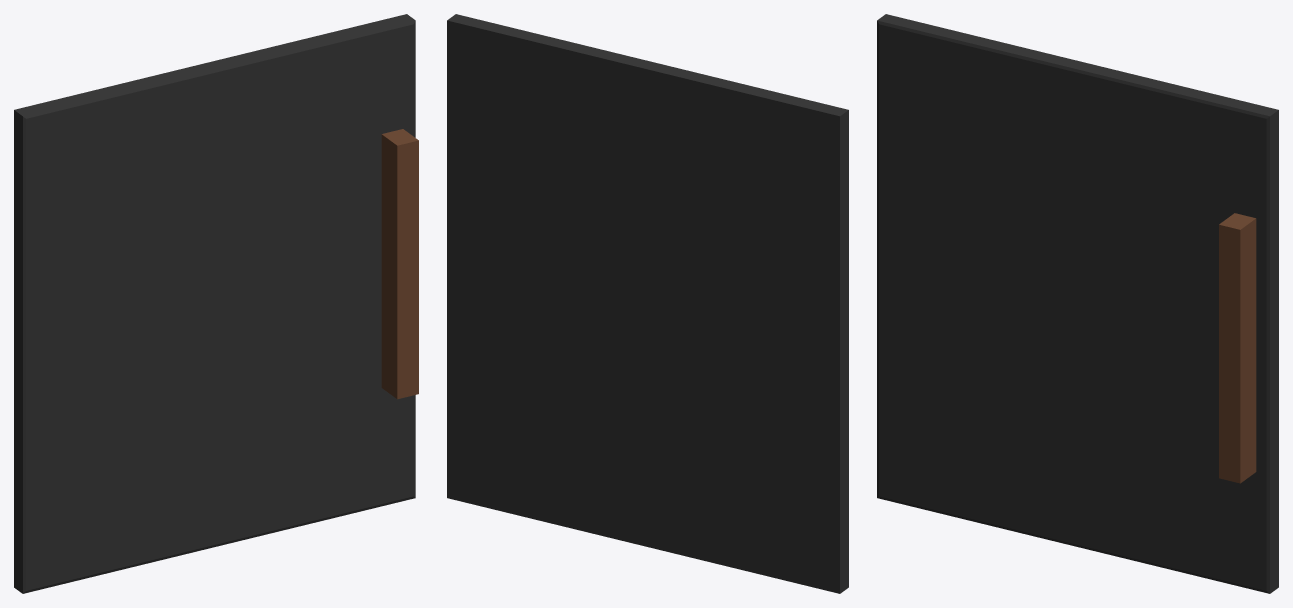
Rendered from Expositor_Door_1.obj.
3 renders of one model, left to right at view 1: azimuth 30°, elevation 25°; view 2: azimuth 150°, elevation 25°; view 3: azimuth 330°, elevation 25°, orthographic.
Visible parts, largest first — view 1: Expositor_Door_1; view 2: Expositor_Door_1; view 3: Expositor_Door_1.
Part boxes in pixels (left/top/right/bottom): Expositor_Door_1: left=14, top=14, right=418, bottom=593; Expositor_Door_1: left=447, top=14, right=848, bottom=593; Expositor_Door_1: left=877, top=14, right=1278, bottom=593.
Size of the model in its own units: 0.662 by 0.7689 by 0.0736.
